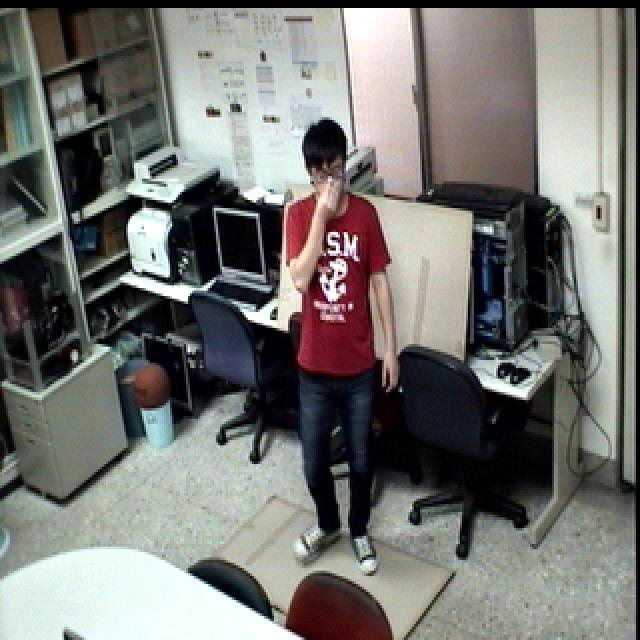stand: (282, 110, 399, 582)
